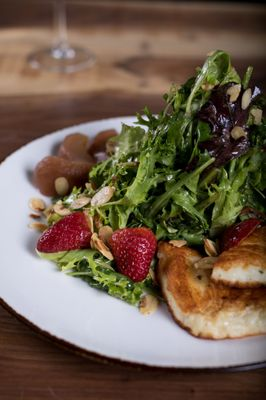curry: (89, 50, 264, 244)
